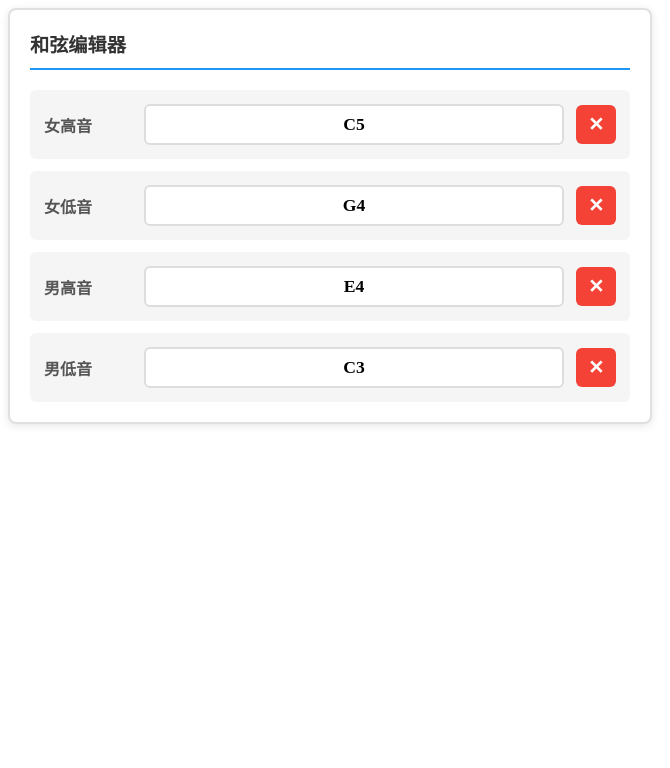
ChordEditor 组件 › 应该支持编辑不同的声部
The image size is (670, 768).
Click the text with test id "note-display-1" at (354, 206), box [144,185,564,226]
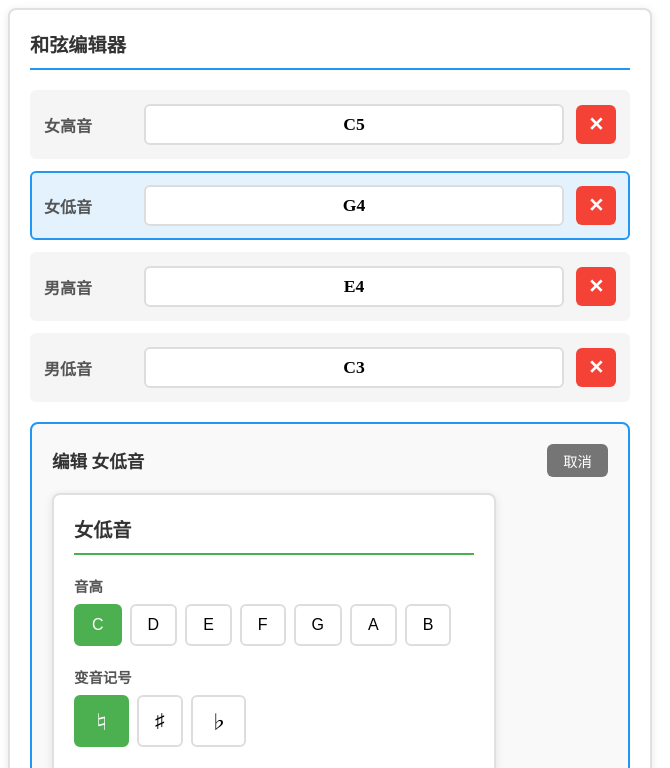
Result: the heading "编辑 女低音" is shown at [52,448,144,473]
Click the button with test id "cancel-edit" at (578, 460), box [547,444,608,477]
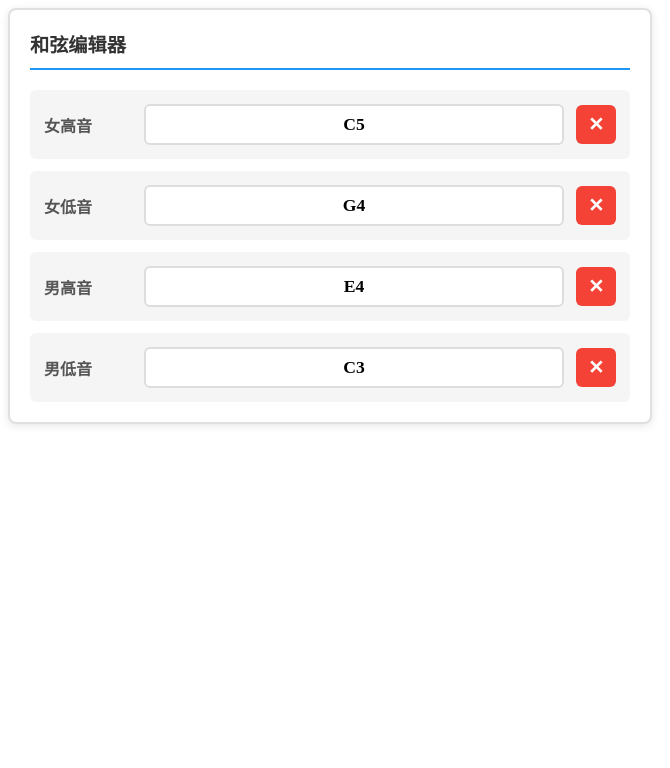
Click the text with test id "note-display-2" at (354, 286), box [144,266,564,307]
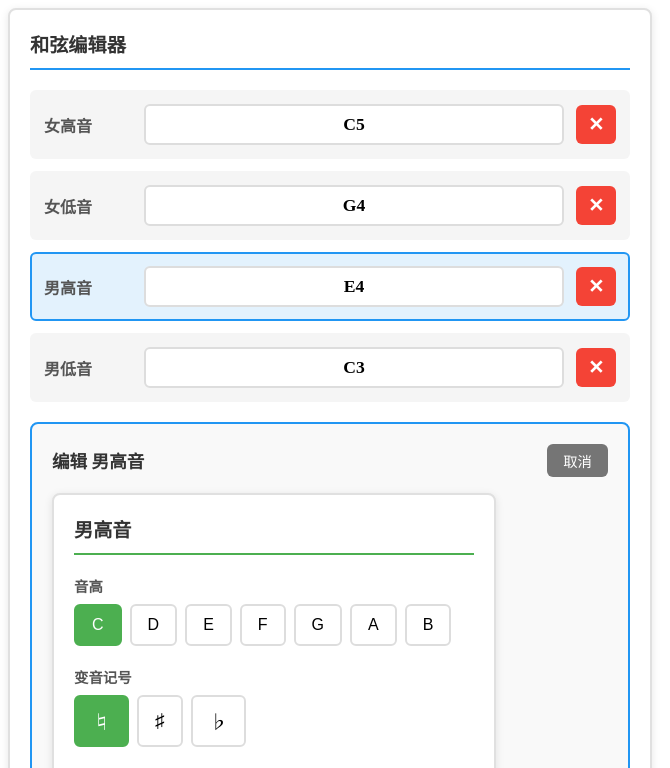
Result: the heading "编辑 男高音" is shown at [52,448,144,473]
Click the button with test id "cancel-edit" at (578, 460), box [547,444,608,477]
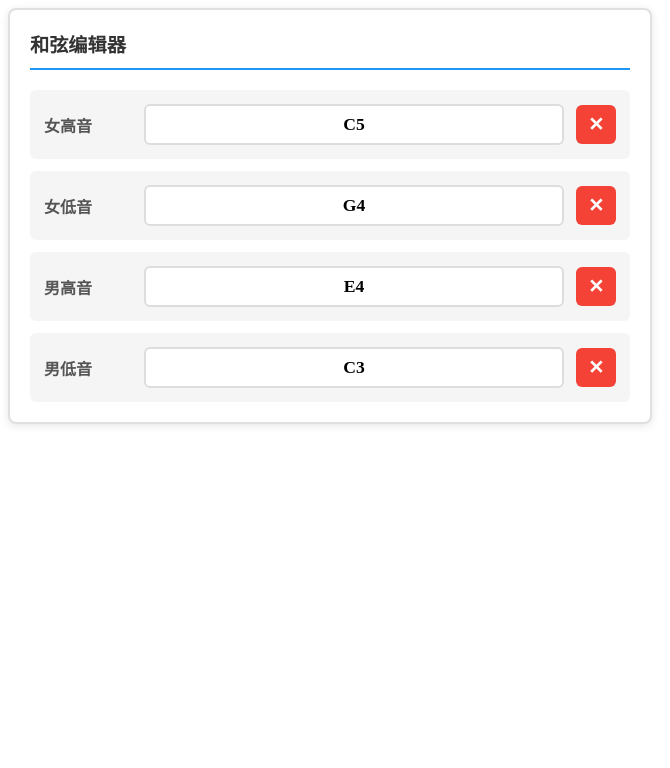
Click the text with test id "note-display-3" at (354, 368), box [144,347,564,388]
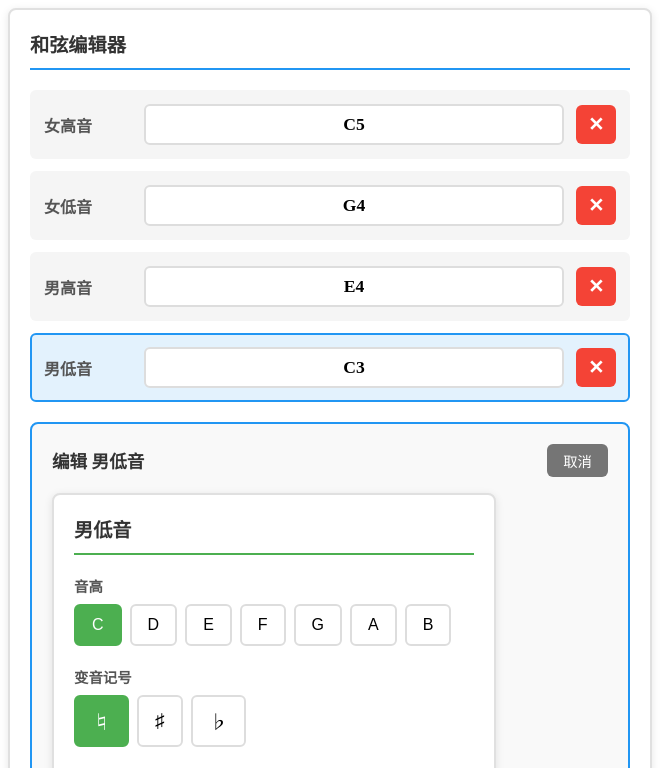
Result: the heading "编辑 男低音" is shown at [52,448,144,473]
